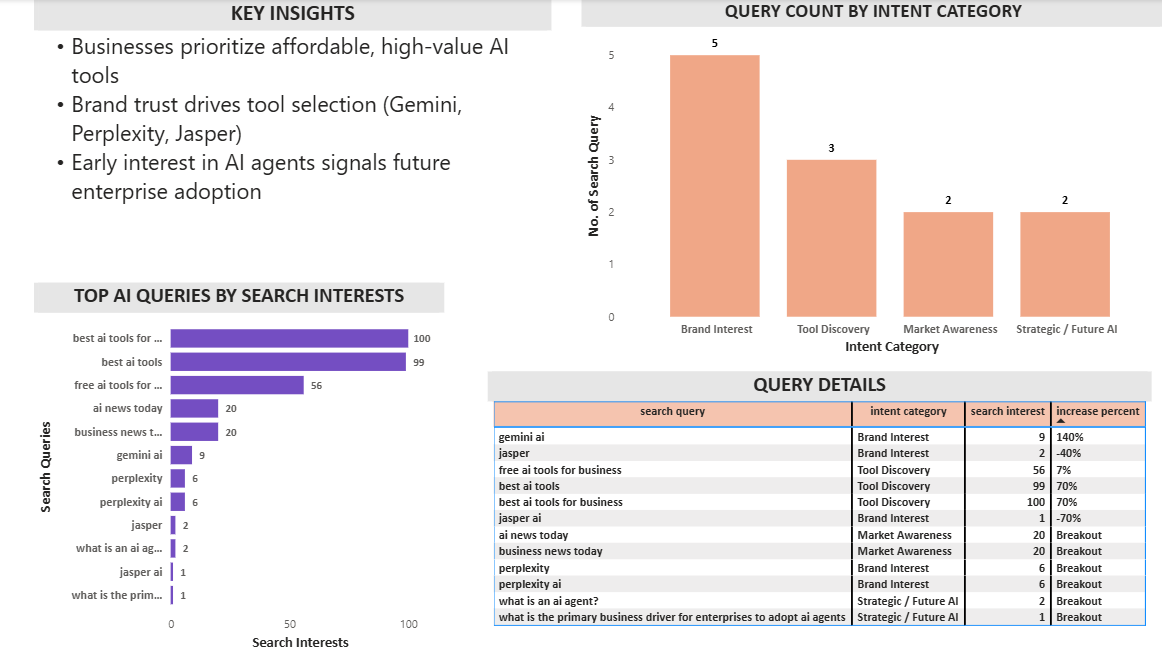

What the dashboard file says about the page in this screenshot:
{"tool":"powerbi","page":{"name":"Current AI Demand in India","canvas":[1280,720],"ordinal":0},"visuals":[{"type":"clusteredBarChart","title":"TOP AI QUERIES BY SEARCH INTERESTS","fields":{"Category":["Top_queries_India_2025.search query"],"Y":["Sum(Top_queries_India_2025.search interest)"]},"box":[38.4,311.5,450.1,408.9],"z":0},{"type":"clusteredColumnChart","title":"QUERY COUNT BY INTENT CATEGORY","fields":{"Category":["Top_queries_India_2025.intent category"],"Y":["CountNonNull(Top_queries_India_2025.search query)"]},"box":[639.5,0,640.8,395.2],"z":1000},{"type":"tableEx","title":"QUERY DETAILS","fields":{"Values":["Top_queries_India_2025.search query","Top_queries_India_2025.intent category","Top_queries_India_2025.search interest","Top_queries_India_2025.increase percent"]},"box":[536.5,408.9,728.6,299.1],"z":2000},{"type":"textbox","title":"KEY INSIGHTS","box":[38.4,0,568.1,233.3],"z":3000}]}

Visuals, with their boxes in screenshot pixels (x1, y1, x2, y2), scaled from the page's 1280x720 canvas onto the 1162x652 screenshot:
"TOP AI QUERIES BY SEARCH INTERESTS" clusteredBarChart: bbox(35, 282, 443, 651)
"QUERY COUNT BY INTENT CATEGORY" clusteredColumnChart: bbox(581, 0, 1161, 358)
"QUERY DETAILS" tableEx: bbox(487, 370, 1148, 641)
"KEY INSIGHTS" textbox: bbox(35, 0, 551, 211)
